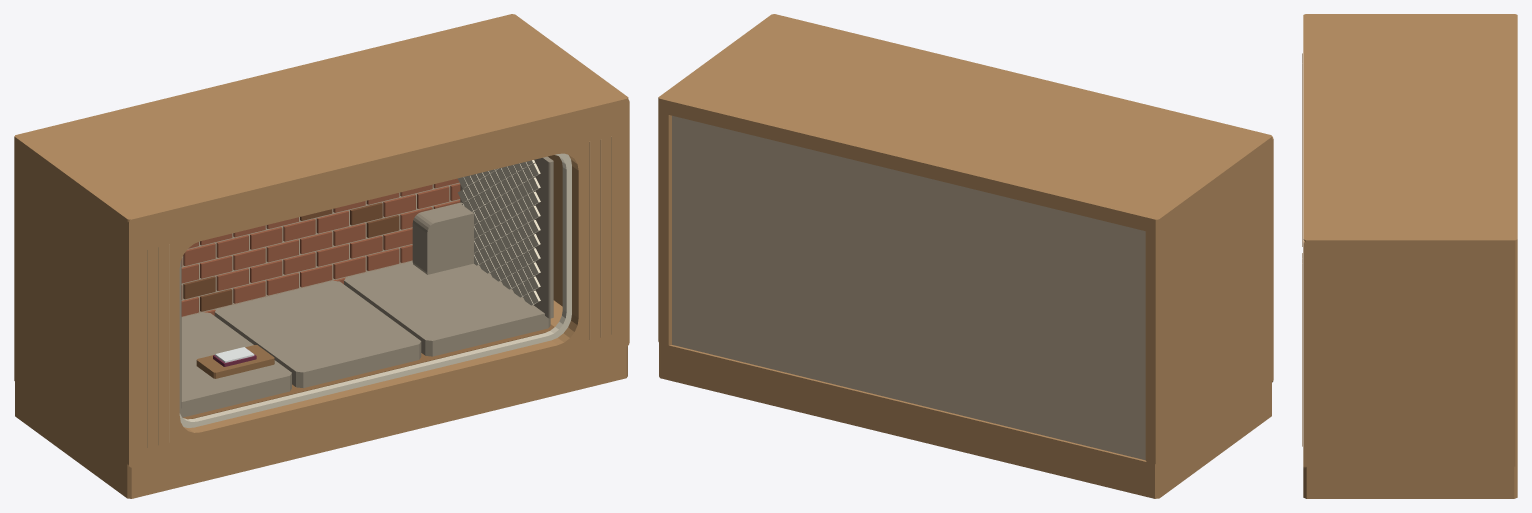
The model's file is gh_worklounge_pod_v01.glb.
The picture shows the model from 3 angles, left to right: view 1: azimuth 30°, elevation 25°; view 2: azimuth 150°, elevation 25°; view 3: azimuth 270°, elevation 25°; orthographic projection. The views are drawn at different scales.
Visible parts, largest first — view 1: Full depth oak lounge enclosure palette, Brick niche and tailored seating fabric, Brick niche and tailored seating palette, Full depth oak lounge enclosure fabric; view 2: Full depth oak lounge enclosure palette, Brick niche and tailored seating palette; view 3: Full depth oak lounge enclosure palette.
Boxes of the visible parts, <box> form: Full depth oak lounge enclosure palette: <box>14,14,629,498</box>; Brick niche and tailored seating fabric: <box>179,156,553,417</box>; Brick niche and tailored seating palette: <box>181,178,554,419</box>; Full depth oak lounge enclosure fabric: <box>179,153,571,427</box>; Full depth oak lounge enclosure palette: <box>658,14,1273,498</box>; Brick niche and tailored seating palette: <box>672,115,1145,460</box>; Full depth oak lounge enclosure palette: <box>1302,14,1517,498</box>.
Size of the model in its own units: 6 by 3.2 by 2.41.
Materials: 3 (3 with a texture image).
